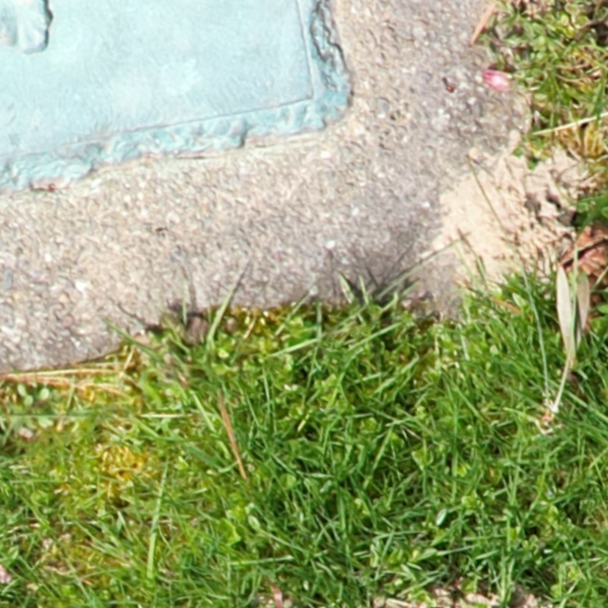nest: (470, 148, 596, 289)
